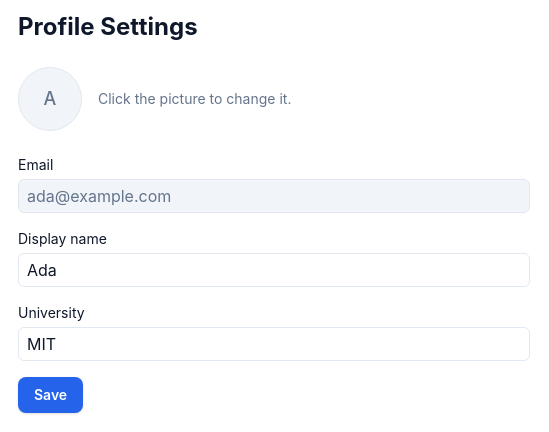
Test: saving the display name and university
Replace the text in the field showing "Ada" with "Ada Lovelace" at (274, 270), box [18,253,530,287]
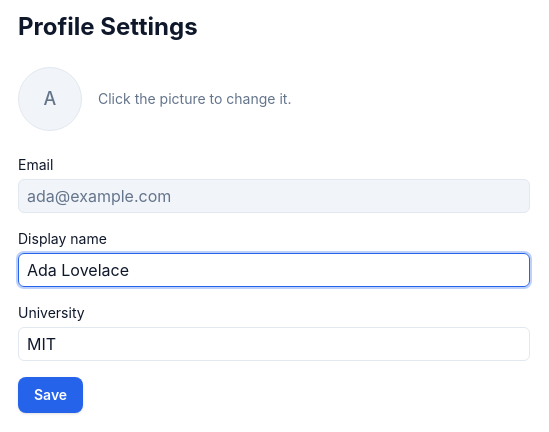
Replace the text in the field showing "MIT" with "Cambridge" at (274, 344), box [18,327,530,361]
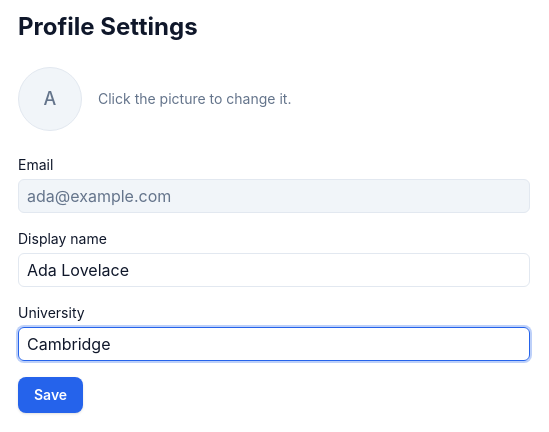
Click the button "Save" at (51, 395), box [18,377,83,413]
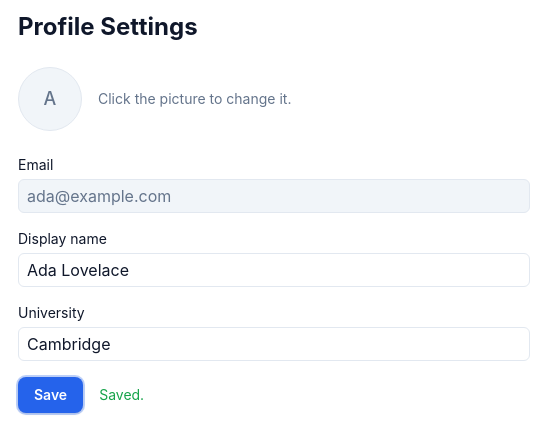
Check: the text "Saved." is shown, box [99,385,144,405]
